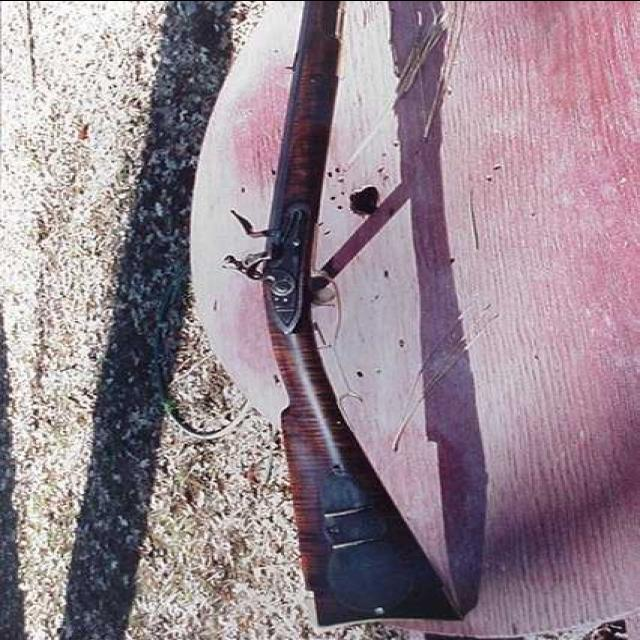heavyweapon: (210, 1, 490, 640)
